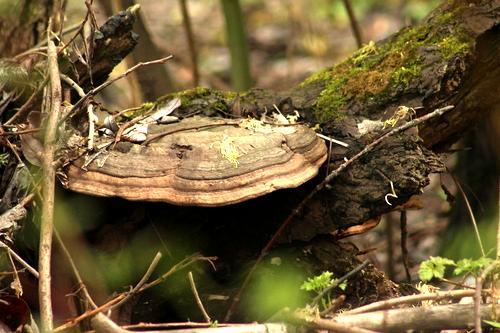Ganoderma - Fruit Body: (55, 109, 327, 205)
